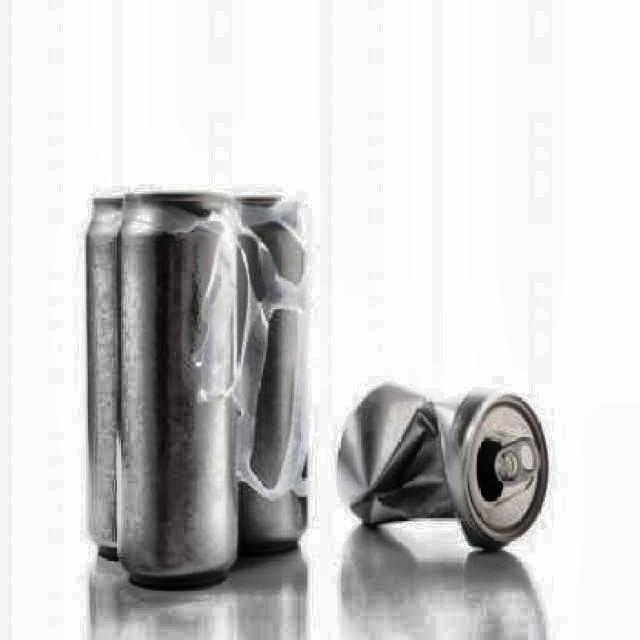can: (114, 189, 245, 589), (333, 378, 559, 561), (217, 193, 314, 566), (79, 187, 131, 562)
